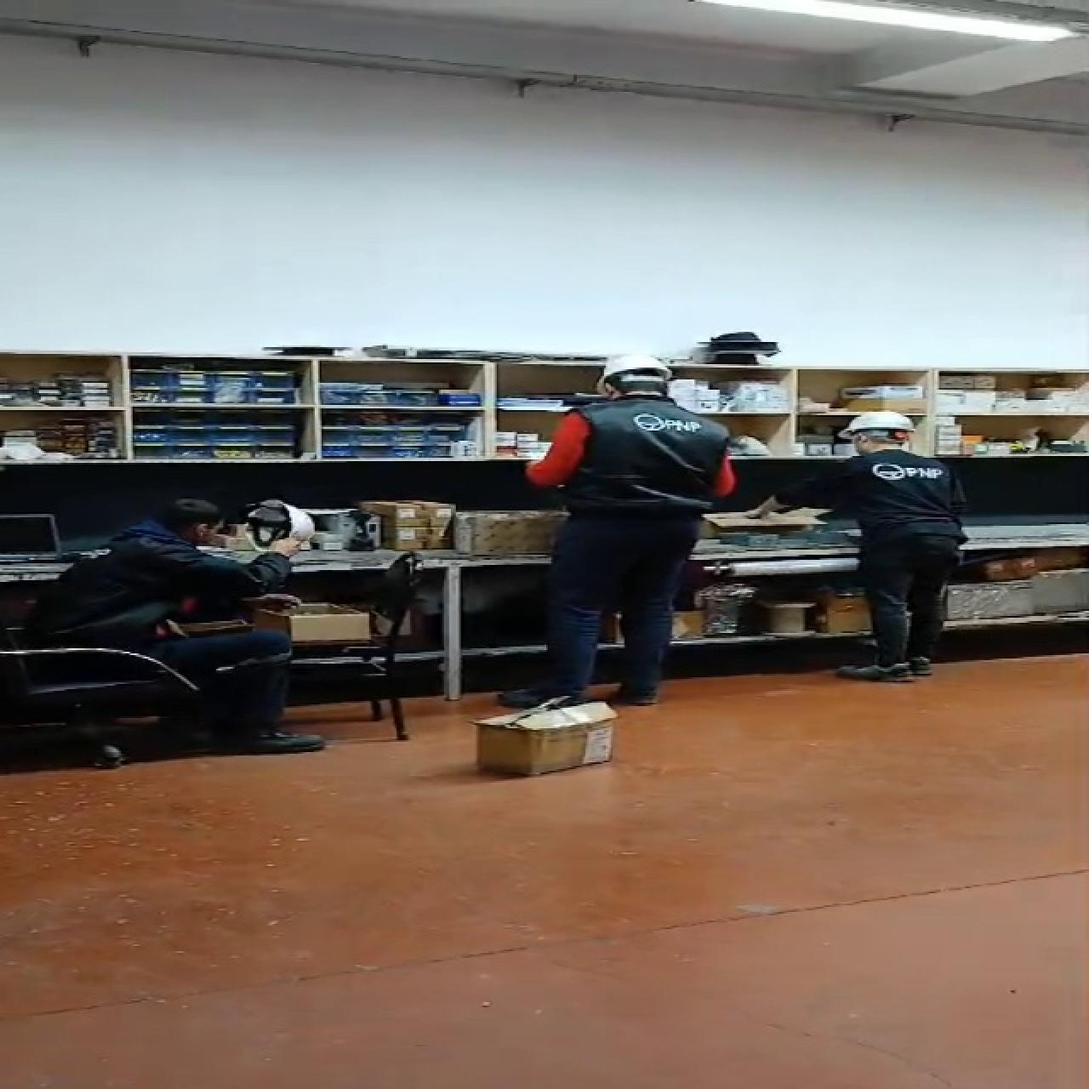NO_Safety_Vest: (576, 401, 721, 542), (25, 525, 179, 649), (858, 453, 958, 538)
Person: (5, 480, 349, 765), (491, 337, 744, 718), (801, 397, 956, 691)
